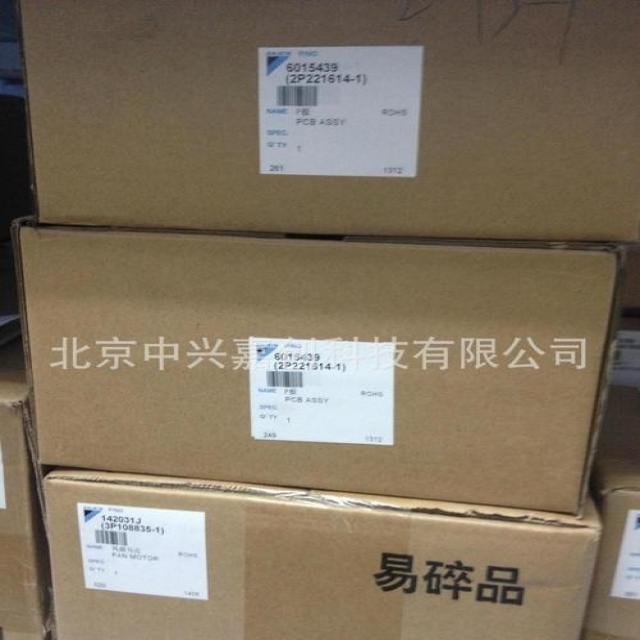box: (12, 217, 622, 515), (17, 3, 639, 247), (40, 467, 597, 638), (1, 312, 54, 638), (2, 3, 38, 314), (579, 457, 639, 637), (597, 317, 638, 460), (614, 244, 638, 320)
